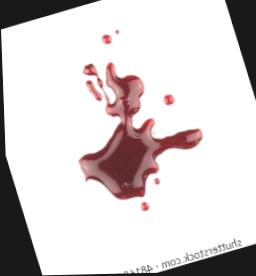Fire: (77, 62, 203, 200), (85, 79, 102, 101), (162, 94, 175, 106), (100, 34, 113, 45), (138, 201, 149, 212)
